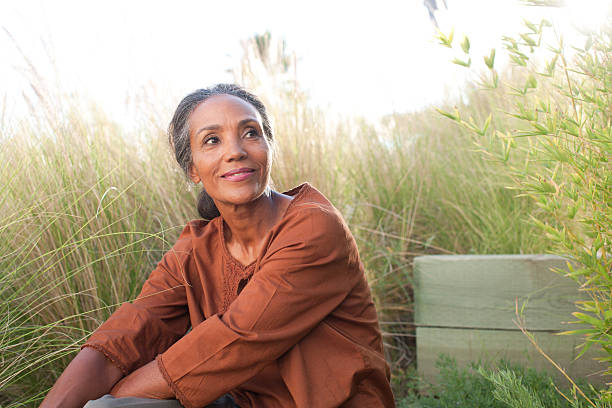face: (191, 111, 268, 202)
